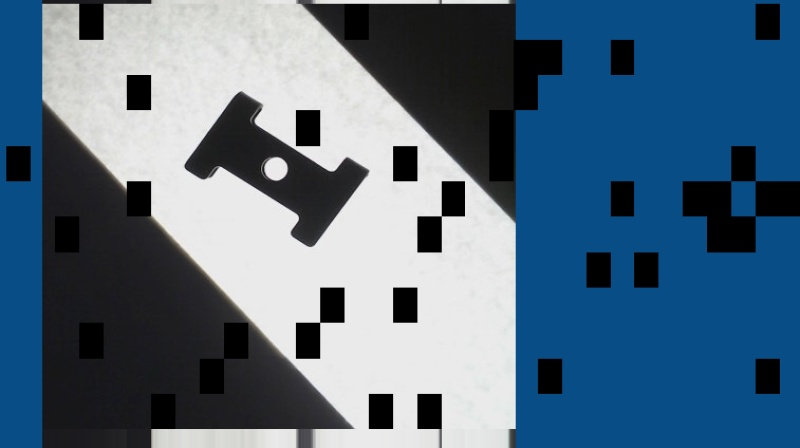O002: (180, 87, 371, 251)
